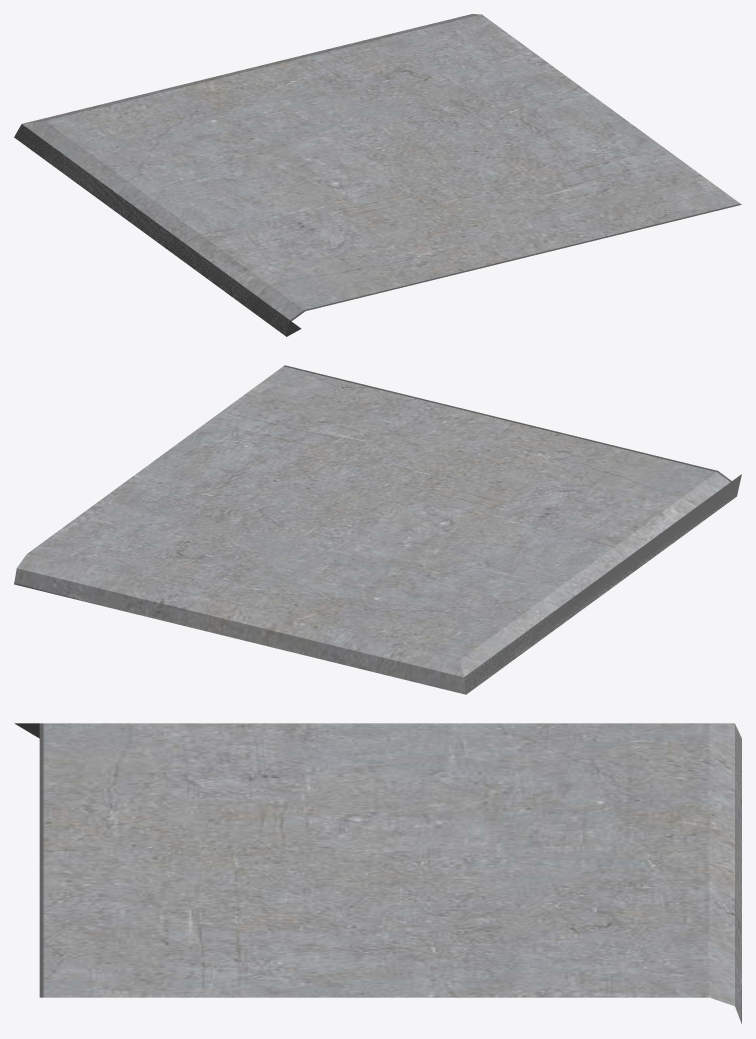
3 views of the same model, one above another, from view 1: azimuth 30°, elevation 25°; view 2: azimuth 150°, elevation 25°; view 3: azimuth 270°, elevation 25° (orthographic). The views are drawn at different scales.
Visible parts, largest first — view 1: Plane; view 2: Plane; view 3: Plane.
Boxes of the visible parts, x1,y1,x2,y2 form: Plane: [14, 14, 741, 336]; Plane: [14, 365, 741, 694]; Plane: [14, 723, 741, 1023].
Size of the model in its own units: 202 by 8.97 by 217.
Materials: 1 (1 with a texture image).
